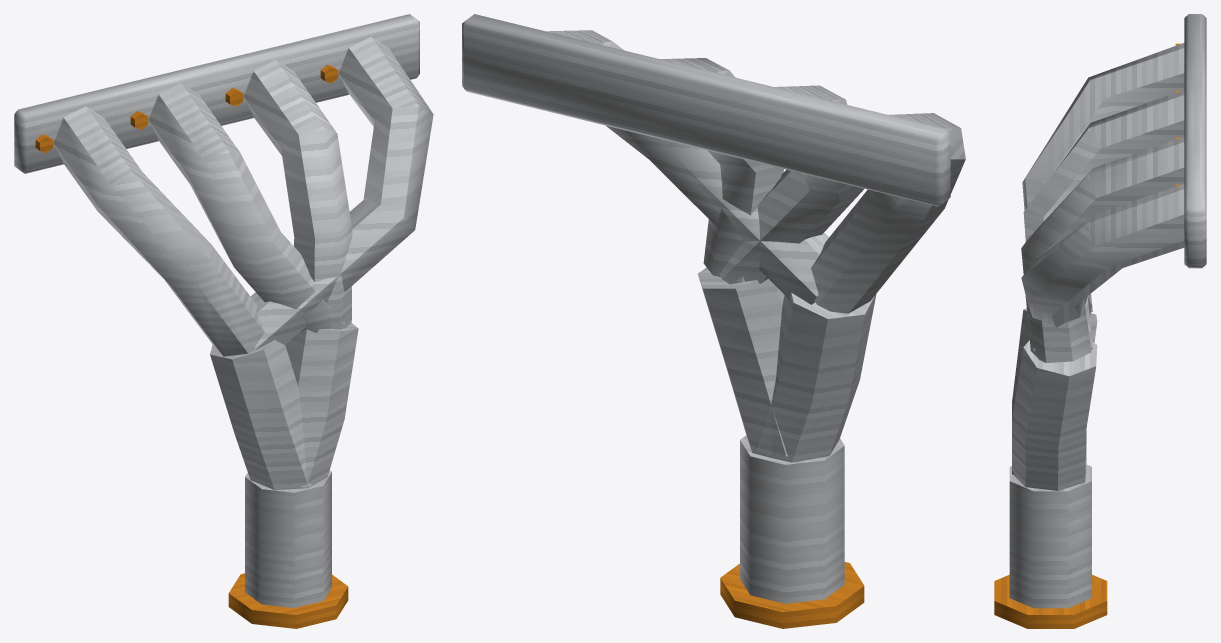
Rendered from coletor_escape_n3.glb.
3 views of the same model, side by side, from view 1: azimuth 30°, elevation 25°; view 2: azimuth 150°, elevation 25°; view 3: azimuth 270°, elevation 25° (orthographic). The views are drawn at different scales.
Parts seen in each view (by area): view 1: coletor_escape_n3; view 2: coletor_escape_n3; view 3: coletor_escape_n3.
Part boxes in pixels (x1,y1,x2,y2): coletor_escape_n3: [14, 14, 433, 628]; coletor_escape_n3: [462, 14, 965, 628]; coletor_escape_n3: [994, 14, 1206, 628].
Bounding box in the file's own units: 0.42 × 0.49 × 0.1908.
Materials: 1 (1 with a texture image).
